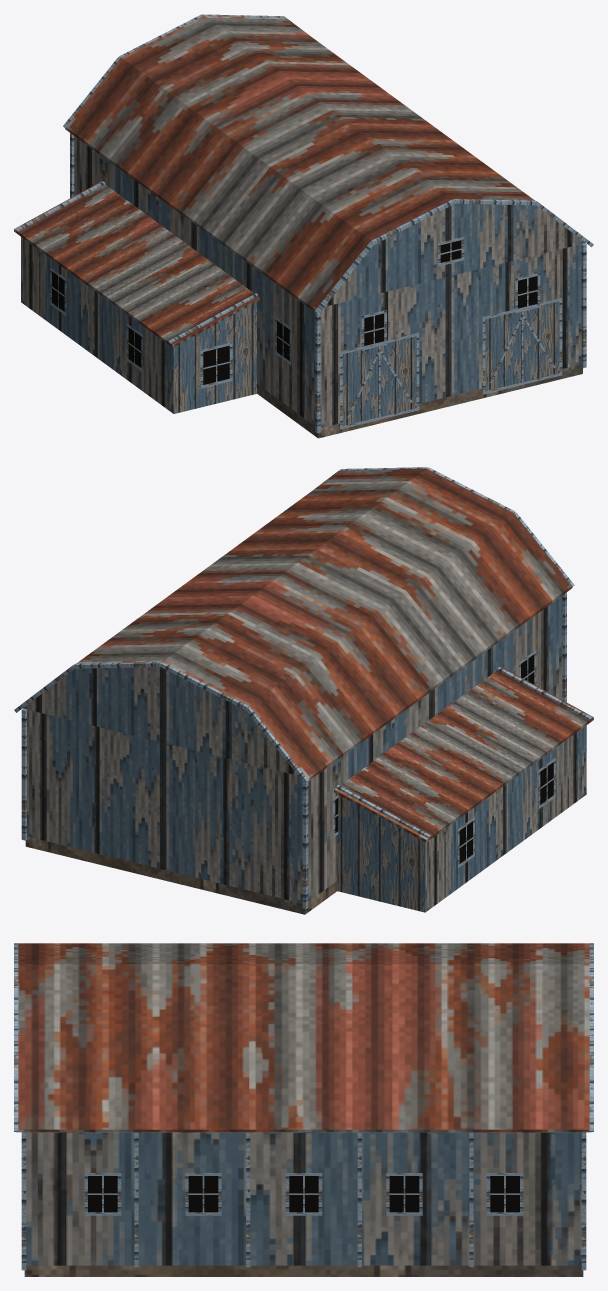
Rendered from Fienile_01_Annesso_Azzurro.obj.
3 views of the same model, one above another, from view 1: azimuth 30°, elevation 25°; view 2: azimuth 150°, elevation 25°; view 3: azimuth 270°, elevation 25° (orthographic). The views are drawn at different scales.
Visible parts, largest first — view 1: Fienile_01_Annesso_Azzurro; view 2: Fienile_01_Annesso_Azzurro; view 3: Fienile_01_Annesso_Azzurro.
Boxes of the visible parts, <box> form: Fienile_01_Annesso_Azzurro: <box>14,14,593,438</box>; Fienile_01_Annesso_Azzurro: <box>14,467,593,914</box>; Fienile_01_Annesso_Azzurro: <box>14,943,593,1276</box>.
Size of the model in its own units: 13.56 by 7.56 by 16.62.
